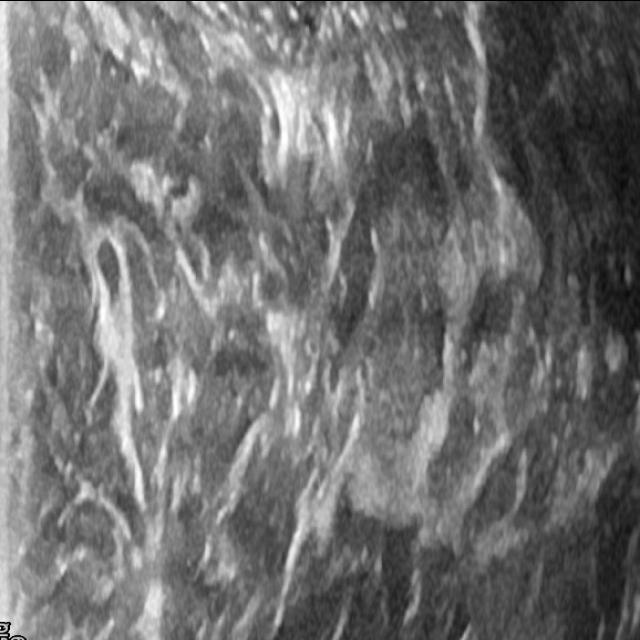Normal: (20, 21, 619, 616)
